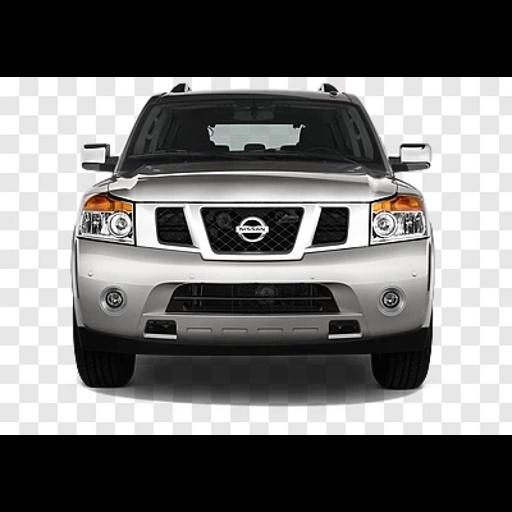sedan: (71, 83, 431, 387)
